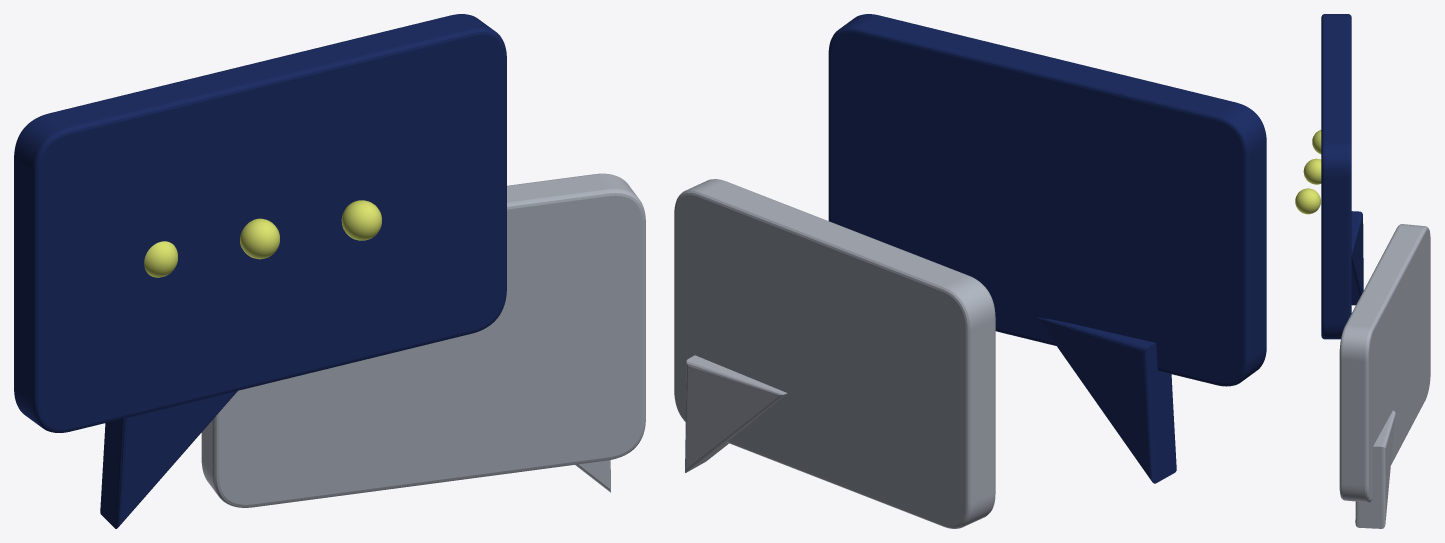
3 views of the same model, side by side, from view 1: azimuth 30°, elevation 25°; view 2: azimuth 150°, elevation 25°; view 3: azimuth 270°, elevation 25° (orthographic). The views are drawn at different scales.
Visible parts, largest first — view 1: machined plate (×2), first speech tail, signal node (×3); view 2: machined plate (×2), first speech tail, reply speech tail; view 3: machined plate (×2), reply speech tail, first speech tail, signal node (×3).
Part boxes in pixels (x1=…): machined plate (×2): x1=14, y1=14, x2=645, y2=507; first speech tail: x1=100, y1=391, x2=237, y2=528; signal node (×3): x1=144, y1=200, x2=381, y2=277; machined plate (×2): x1=674, y1=14, x2=1266, y2=528; first speech tail: x1=1037, y1=317, x2=1176, y2=483; reply speech tail: x1=685, y1=355, x2=787, y2=472; machined plate (×2): x1=1321, y1=14, x2=1430, y2=502; reply speech tail: x1=1355, y1=410, x2=1395, y2=528; first speech tail: x1=1351, y1=211, x2=1363, y2=305; signal node (×3): x1=1295, y1=130, x2=1321, y2=214.
Bounding box in the file's own units: 1.98 × 1.56 × 0.5746.
